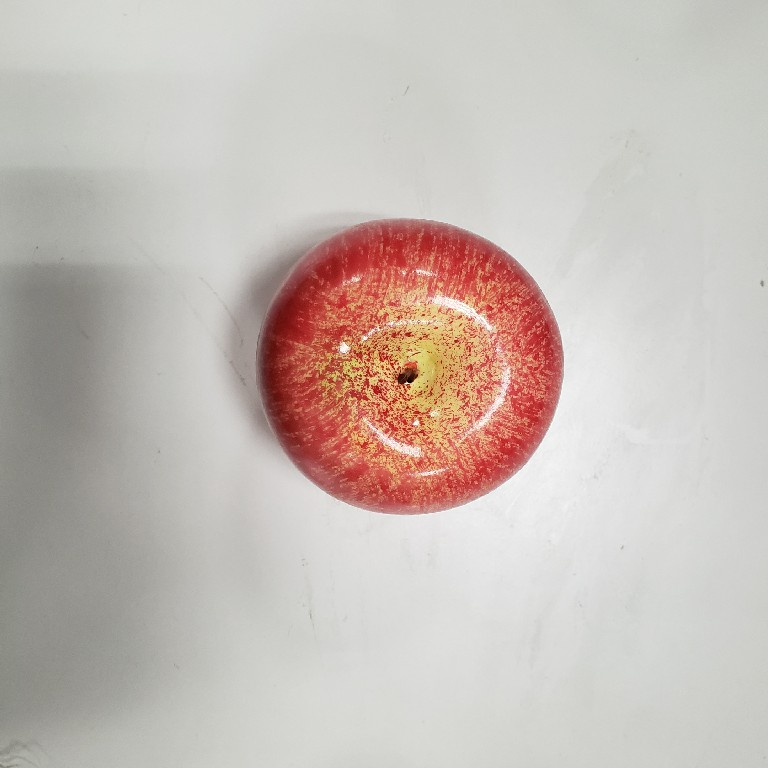fruit_apple: (251, 212, 567, 520)
